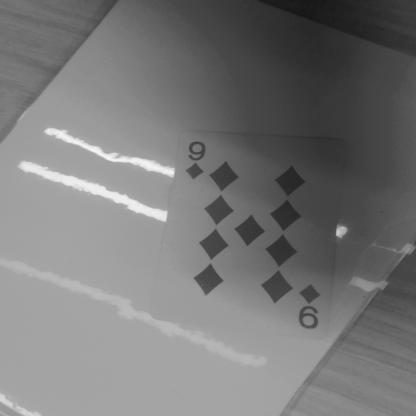9D: (177, 134, 214, 182)
